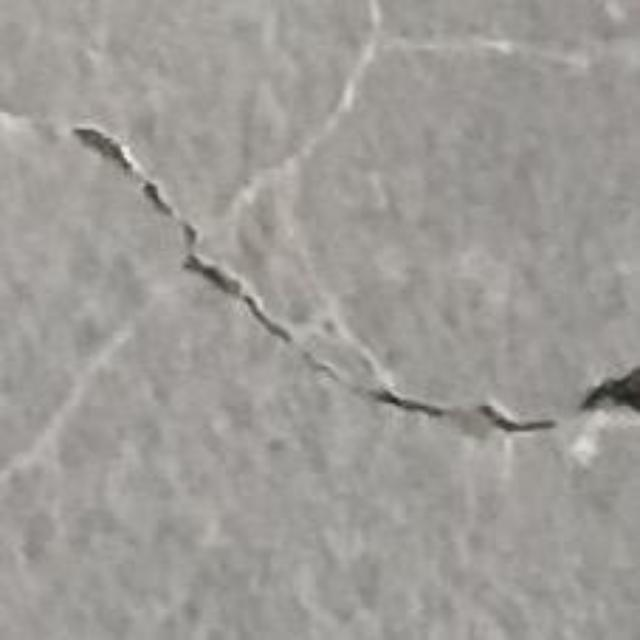crack: (74, 125, 561, 434)
